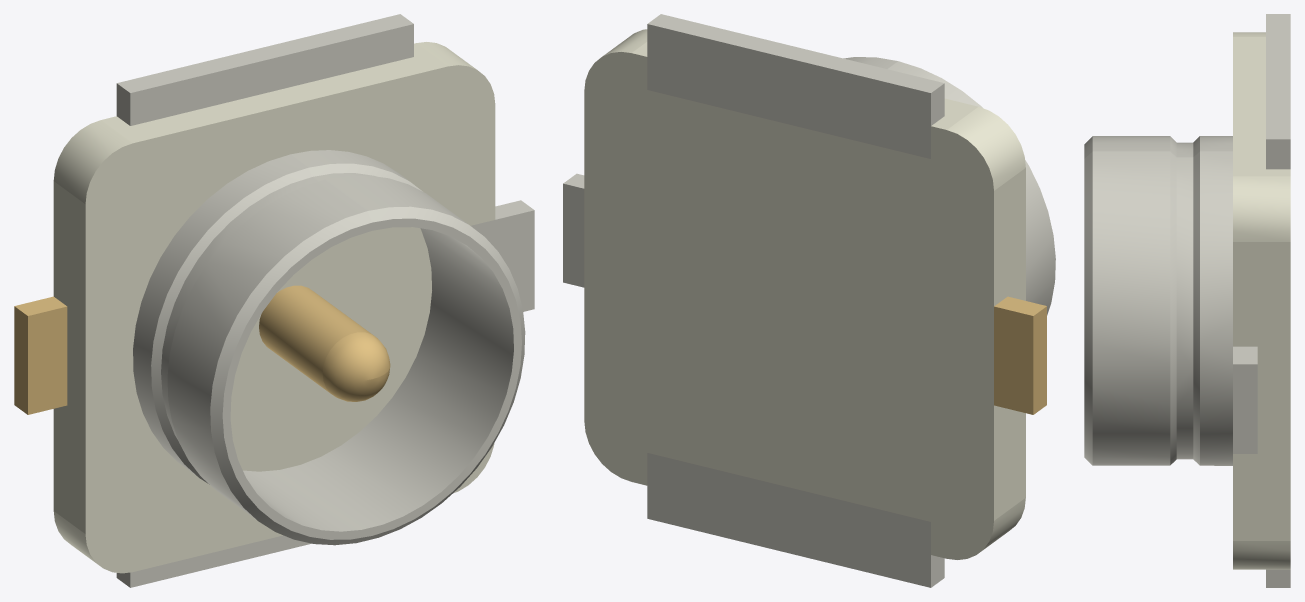
The model's file is Connector_Coaxial_U.FL_Hirose_U.FL-R-SMT-1_Vertical.glb.
The picture shows the model from 3 angles, left to right: view 1: azimuth 30°, elevation 25°; view 2: azimuth 150°, elevation 25°; view 3: azimuth 270°, elevation 25°; orthographic projection. The views are drawn at different scales.
Size of the model in its own units: 3.1 by 3 by 1.25.
